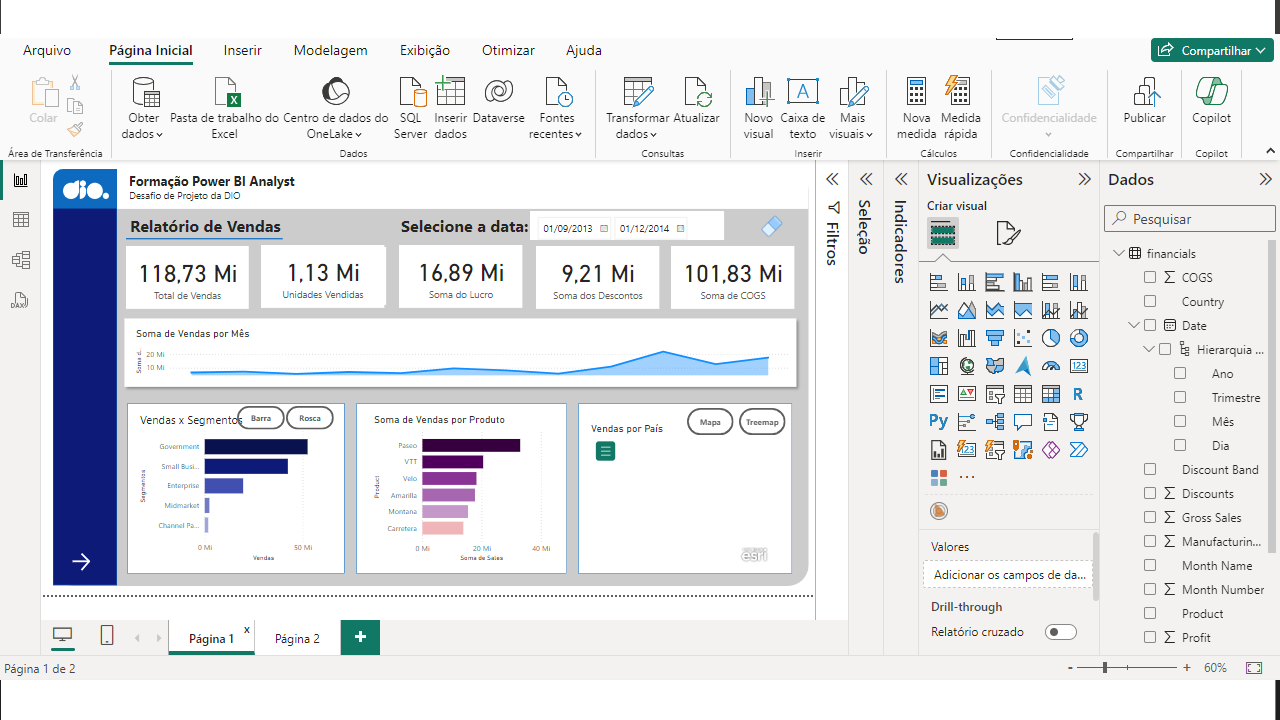

The dashboard page shown, as its layout file describes it:
{"tool":"powerbi","page":{"name":"Página 1","canvas":[1280,720],"ordinal":0},"visuals":[{"type":"shape","box":[20.2,14.4,1249.9,689.8],"z":0},{"type":"slicer","fields":{"Values":["financials.Date"]},"box":[809.3,85,321.1,47.5],"z":0,"group":"g2"},{"type":"shape","box":[141.1,116.7,259.2,28.8],"z":0,"group":"g5"},{"type":"shape","box":[146.8,145.2,197.1,95.7],"z":0,"group":"g1"},{"type":"barChart","title":"Vendas x Segmentos ","fields":{"Y":["Sum(financials. Sales)"],"Category":["financials.Segment"]},"box":[158.9,417,326.4,251.2],"z":0,"group":"g4"},{"type":"shape","box":[20.2,20.2,105.8,683.7],"z":1000},{"type":"textbox","box":[142.5,85,301,46.1],"z":1000,"group":"g5"},{"type":"textbox","box":[590.4,85,229,46.1],"z":1000,"group":"g2"},{"type":"shape","box":[374,145.2,197.1,95.7],"z":1000,"group":"g1"},{"type":"actionButton","title":"Botão - barra","box":[324,407.5,79.2,38.9],"z":1250,"group":"g4"},{"type":"actionButton","title":"Botão - rosca","box":[406,407.5,79.2,38.9],"z":1500,"group":"g4"},{"type":"shape","box":[20.2,15.1,109.2,65.5],"z":2000},{"type":"actionButton","box":[1175,85,67.7,50.4],"z":2000,"group":"g2"},{"type":"shape","box":[597.9,145.2,197.1,95.7],"z":2000,"group":"g1"},{"type":"image","title":"logo_dio","box":[31.7,15.8,86.4,64.8],"z":3000},{"type":"shape","box":[823.4,145.2,197.1,95.7],"z":3000,"group":"g1"},{"type":"shape","box":[125.5,14.3,1143.8,66.3],"z":4000},{"type":"shape","box":[1045.6,145.2,197.1,95.7],"z":4000,"group":"g1"},{"type":"textbox","box":[141.1,15.1,302.4,65.5],"z":5000},{"type":"card","fields":{"Values":["Sum(financials.COGS)"]},"box":[1042.5,142.5,204.5,103.7],"z":5000,"group":"g1"},{"type":"group","id":"g1","title":"Cartões","box":[141.1,141.1,1105.9,105.1],"z":6000},{"type":"card","fields":{"Values":["Sum(financials.Discounts)"]},"box":[819.3,142.5,204.5,103.7],"z":6000,"group":"g1"},{"type":"card","fields":{"Values":["Sum(financials.Units Sold)"]},"box":[364.3,141.1,204.5,103.7],"z":7000,"group":"g1"},{"type":"shape","box":[129.6,253.4,1129,131],"z":7000},{"type":"card","fields":{"Values":["Sum(financials.Profit)"]},"box":[593.3,141.1,204.5,103.7],"z":8000,"group":"g1"},{"type":"shape","box":[142.6,401.8,360,282.2],"z":8000},{"type":"card","fields":{"Values":["Sum(financials. Sales)"]},"box":[141.1,142.5,203.4,103.7],"z":9000,"group":"g1"},{"type":"shape","box":[521.3,401.8,348.5,282.2],"z":9000},{"type":"shape","box":[888.5,401.8,354.2,282.2],"z":10000},{"type":"stackedAreaChart","title":"Soma de Vendas por Mês","fields":{"Category":["financials.Date.Variation.Hierarquia de datas.Mês"],"Y":["Sum(financials. Sales)"]},"box":[152.6,276.5,1090.1,85],"z":11000},{"type":"clusteredBarChart","title":"Soma de Vendas por Produto","fields":{"Y":["Sum(financials.Sales)"],"Category":["financials.Product"]},"box":[545.8,417.6,301,250.6],"z":12000},{"type":"group","id":"g2","title":"Filtro por data","box":[590.4,85,652.3,50.4],"z":14000},{"type":"group","id":"g3","title":"Vendas por País","box":[903,409.4,328.1,269.9],"z":15000},{"type":"group","id":"g4","title":"Vendas por Segmento","box":[158.9,407.5,326.4,260.7],"z":16000},{"type":"group","id":"g5","title":"Título do relatório","box":[141.1,85,302.4,60.5],"z":17000},{"type":"actionButton","box":[46.1,644.3,53,39.3],"z":18000},{"type":"esriVisual","fields":{"Location":["financials.Country"],"Size":["Sum(financials.Sales)"]},"box":[904.8,431.9,308.3,245.6],"z":18001,"group":"g3"},{"type":"image","title":"clean","box":[1185.1,77.8,46.1,64.8],"z":18500},{"type":"actionButton","title":"Botão - treemap","box":[1154,409.4,77.1,44.8],"z":18501,"group":"g3"},{"type":"actionButton","title":"Botão - mapa","box":[1067.9,409.4,77.1,44.8],"z":19001,"group":"g3"}]}

Visuals, with their boxes on the page's 1280x720 design canvas (x1, y1, x2, y2). These are canvas units, not pixel positions in the 1280x720 screenshot, which may show the page scaled, cropped or inside an application window:
shape: 20 14 1270 704
slicer - financials.Date: 809 85 1130 132
shape: 141 117 400 146
shape: 147 145 344 241
"Vendas x Segmentos " barChart: 159 417 485 668
shape: 20 20 126 704
textbox: 142 85 444 131
textbox: 590 85 819 131
shape: 374 145 571 241
"Botão - barra" actionButton: 324 408 403 446
"Botão - rosca" actionButton: 406 408 485 446
shape: 20 15 129 81
actionButton: 1175 85 1243 135
shape: 598 145 795 241
"logo_dio" image: 32 16 118 81
shape: 823 145 1020 241
shape: 126 14 1269 81
shape: 1046 145 1243 241
textbox: 141 15 444 81
card - Sum(financials.COGS): 1042 142 1247 246
"Cartões" group: 141 141 1247 246
card - Sum(financials.Discounts): 819 142 1024 246
card - Sum(financials.Units Sold): 364 141 569 245
shape: 130 253 1259 384
card - Sum(financials.Profit): 593 141 798 245
shape: 143 402 503 684
card - Sum(financials. Sales): 141 142 344 246
shape: 521 402 870 684
shape: 888 402 1243 684
"Soma de Vendas por Mês" stackedAreaChart: 153 276 1243 362
"Soma de Vendas por Produto" clusteredBarChart: 546 418 847 668
"Filtro por data" group: 590 85 1243 135
"Vendas por País" group: 903 409 1231 679
"Vendas por Segmento" group: 159 408 485 668
"Título do relatório" group: 141 85 444 146
actionButton: 46 644 99 684
esriVisual - financials.Country x Sum(financials.Sales): 905 432 1213 678
"clean" image: 1185 78 1231 143
"Botão - treemap" actionButton: 1154 409 1231 454
"Botão - mapa" actionButton: 1068 409 1145 454
